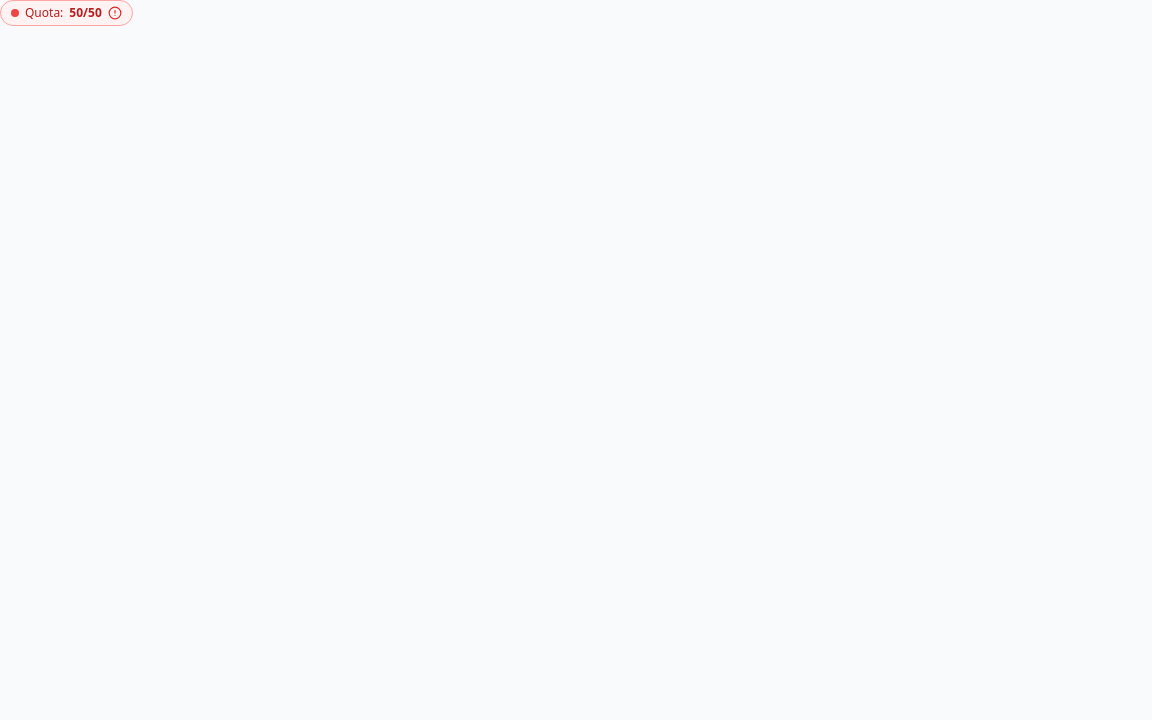
Scenario: QuotaMeter Component › renders exceeded alert when quota is exhausted (100%)
The width and height of the screenshot is (1152, 720).
Click the button with aria-label "llm quota: 50 of 50 daily requests used".
click(66, 13)  # box [0, 0, 133, 26]
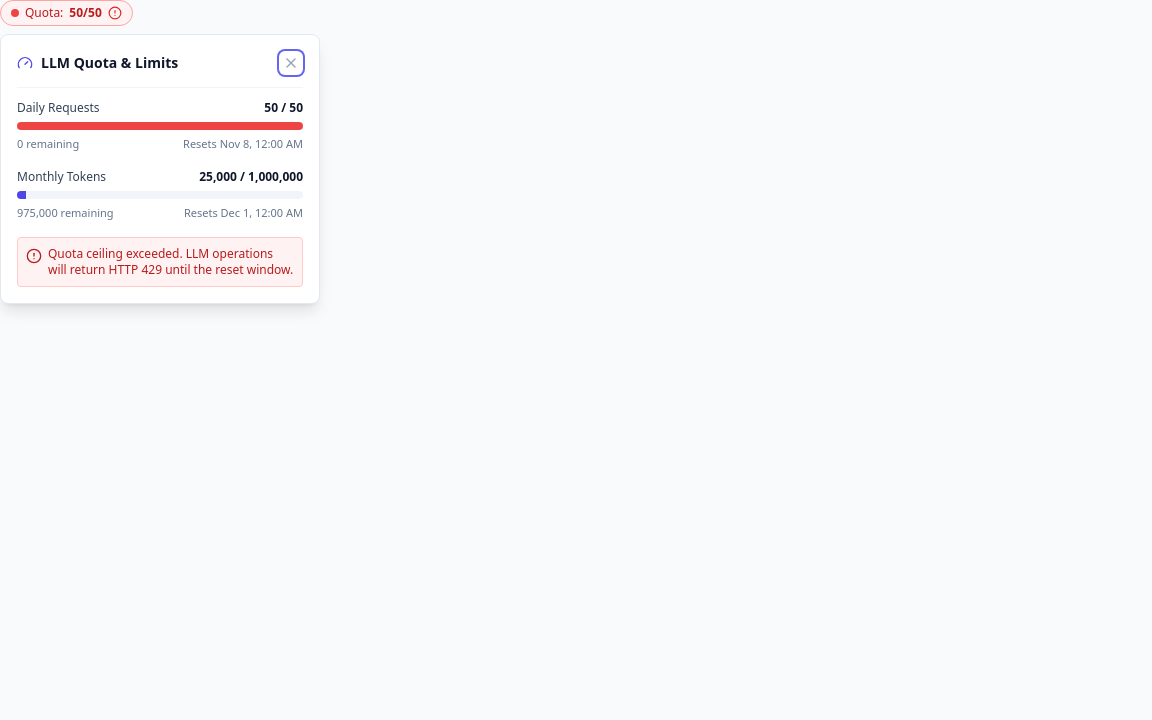
Now the message is shown, box [17, 237, 303, 287]
Now the text "Quota ceiling exceeded" is shown, box [48, 245, 293, 278]
